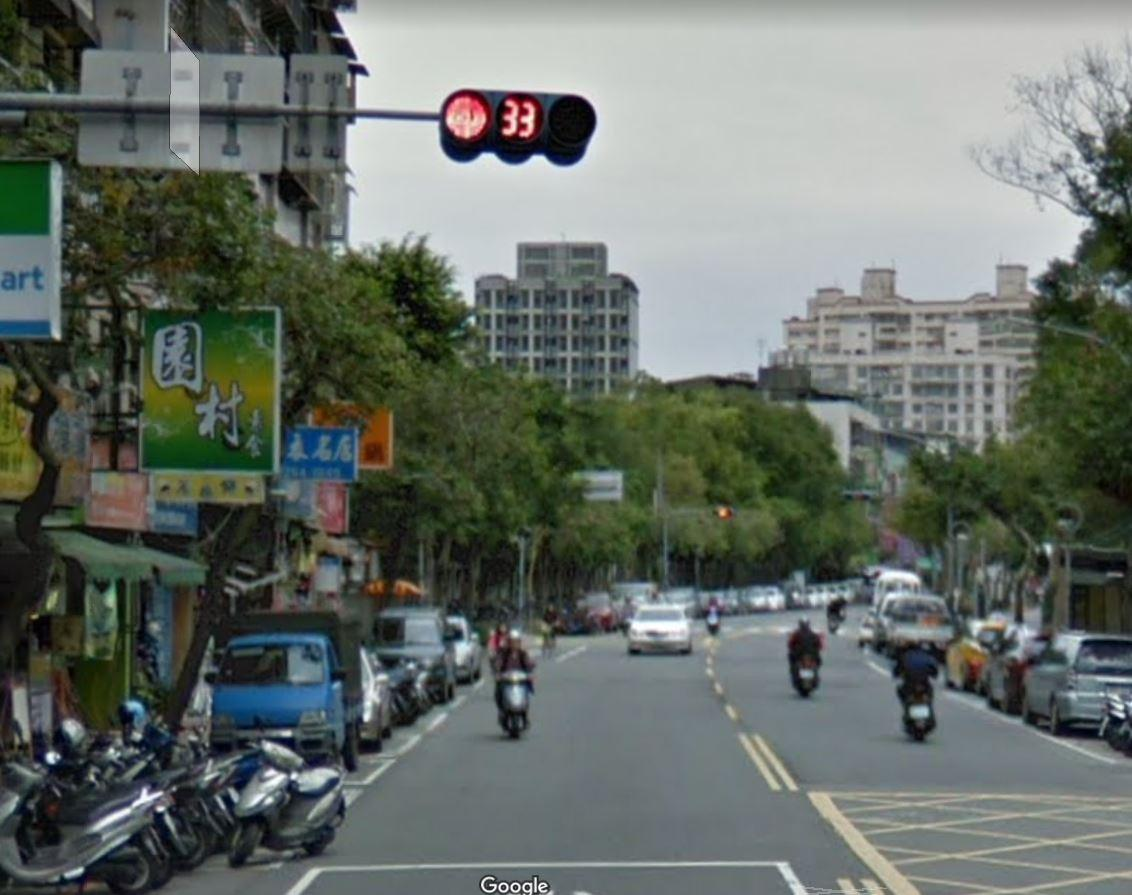red_traffic_light: (435, 86, 596, 154)
